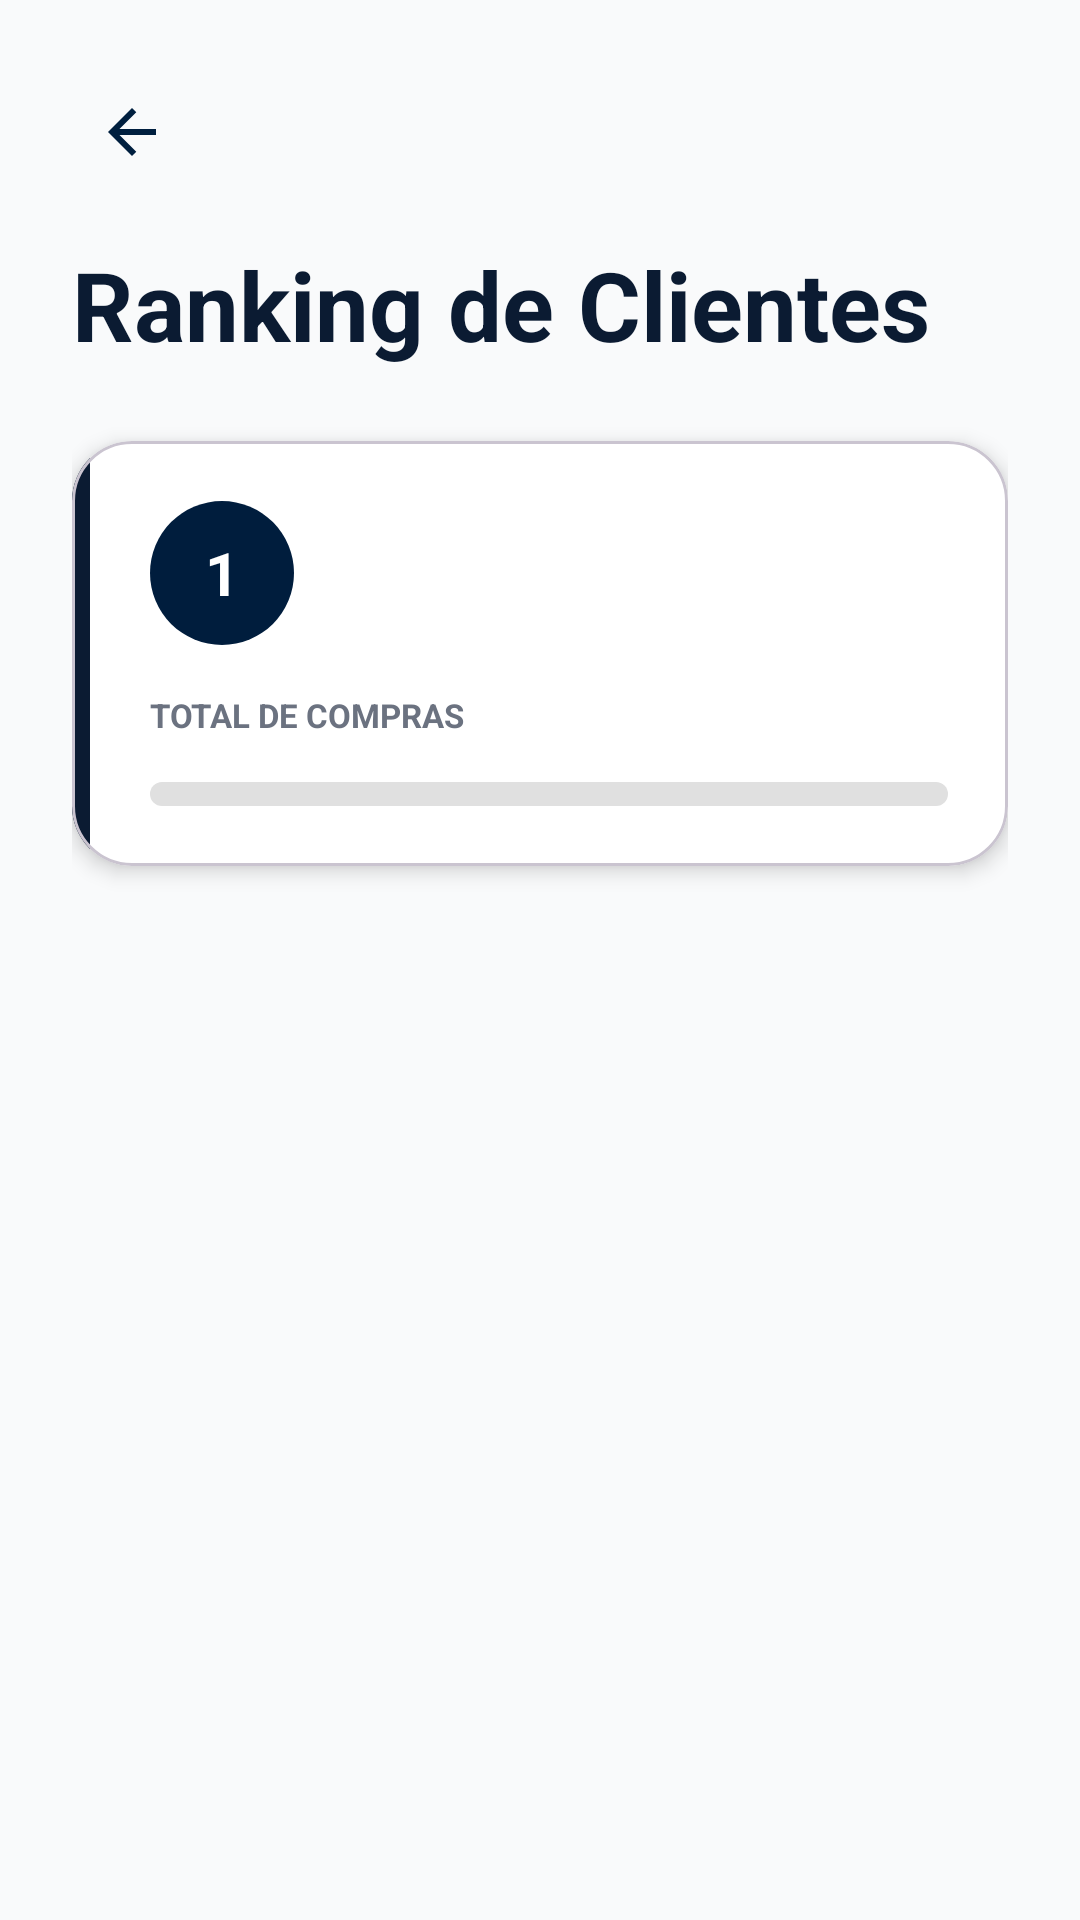

Icons on this 1080w x 1920h Android screen, each with its box as (x1, y1, x2, y2):
Regresar: (108, 108, 156, 156)
